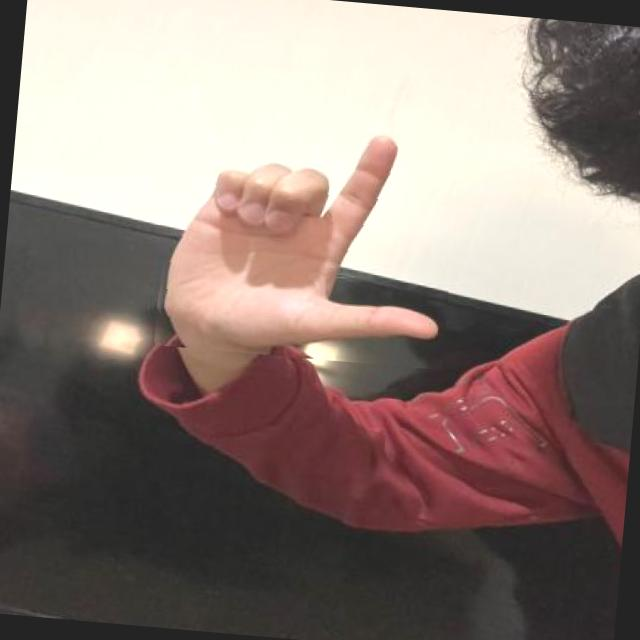L: (146, 112, 462, 370)
